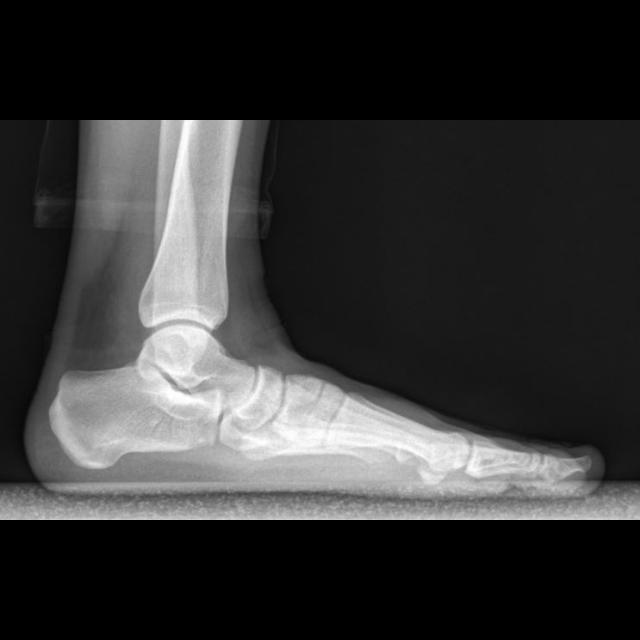a: (50, 364, 219, 470)
b: (233, 363, 284, 428)
c: (321, 393, 469, 472)
